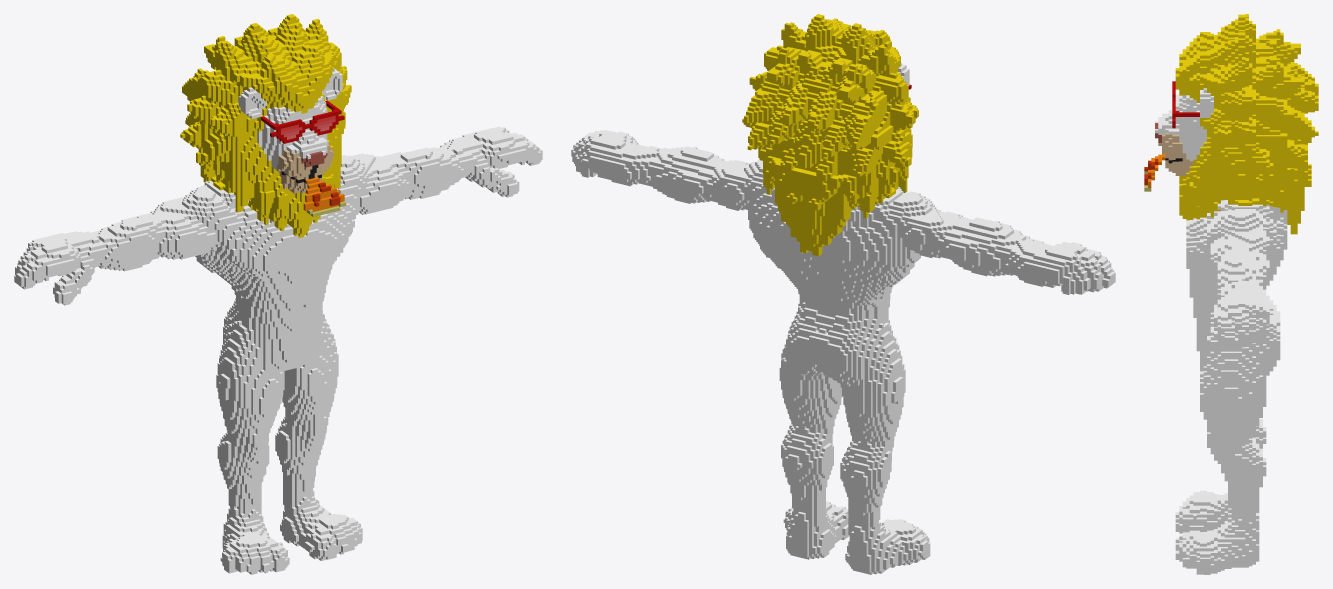
Rendered from 227-D6l_ApqA.glb.
3 views of the same model, side by side, from view 1: azimuth 30°, elevation 25°; view 2: azimuth 150°, elevation 25°; view 3: azimuth 270°, elevation 25° (orthographic). The views are drawn at different scales.
Parts seen in each view (by area): view 1: pizza; view 2: pizza; view 3: pizza.
Part boxes in pixels (<box>): pizza: <box>14,14,542,574</box>; pizza: <box>571,14,1115,574</box>; pizza: <box>1144,14,1318,574</box>.
Size of the model in its own units: 17.2 by 16.5 by 5.
Materials: 4 (4 with a texture image).
